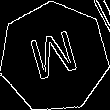M_S: (26, 27, 83, 88)
